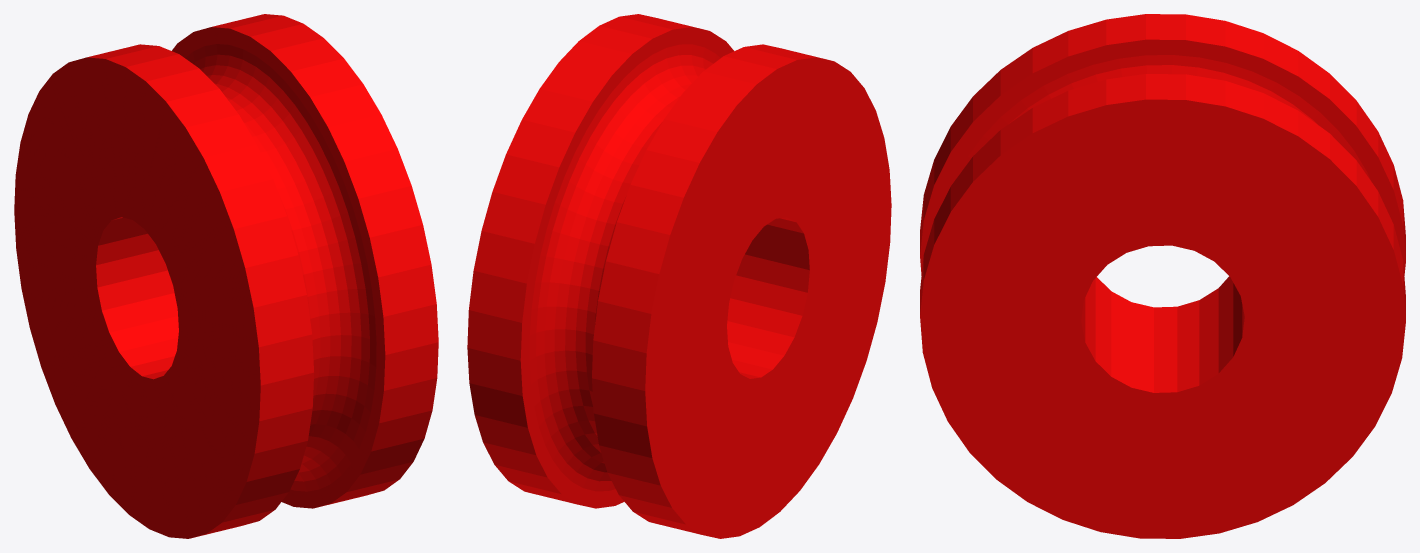
Rendered from power_cart_wr2_visuals_wr2_mesh.obj.
3 views of the same model, side by side, from view 1: azimuth 30°, elevation 25°; view 2: azimuth 150°, elevation 25°; view 3: azimuth 270°, elevation 25° (orthographic).
Size of the model in its own units: 0.5 by 1.2 by 1.2.
